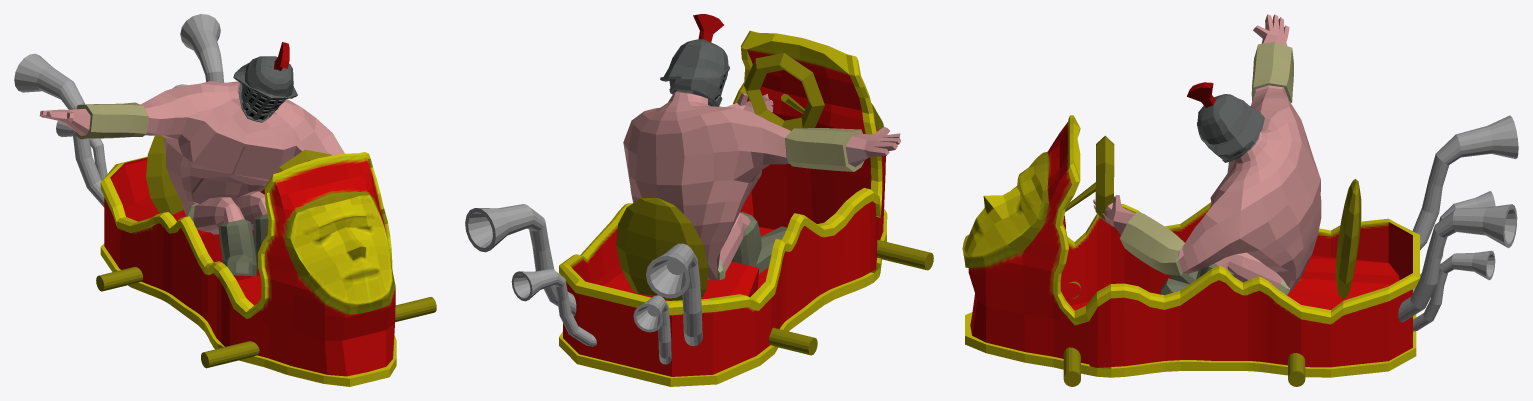
The model's file is gladiVacile_000540.obj.
The picture shows the model from 3 angles, left to right: view 1: azimuth 30°, elevation 25°; view 2: azimuth 150°, elevation 25°; view 3: azimuth 270°, elevation 25°; orthographic projection. The views are drawn at different scales.
Visible parts, largest first — view 1: GladiChasis_GladiChasisH, Gadiador_Gladiador_H.001, GladiTubos_GladiTubosH, GladiVolante_GladiVolanteH; view 2: GladiChasis_GladiChasisH, Gadiador_Gladiador_H.001, GladiTubos_GladiTubosH, GladiVolante_GladiVolanteH; view 3: GladiChasis_GladiChasisH, Gadiador_Gladiador_H.001, GladiTubos_GladiTubosH, GladiVolante_GladiVolanteH.
Part boxes in pixels (left/top/right/bottom): GladiChasis_GladiChasisH: left=100, top=152, right=396, bottom=386; Gadiador_Gladiador_H.001: left=39, top=42, right=344, bottom=276; GladiTubos_GladiTubosH: left=14, top=14, right=223, bottom=207; GladiVolante_GladiVolanteH: left=96, top=135, right=436, bottom=368; GladiChasis_GladiChasisH: left=559, top=30, right=887, bottom=386; Gadiador_Gladiador_H.001: left=623, top=14, right=900, bottom=280; GladiTubos_GladiTubosH: left=465, top=204, right=702, bottom=364; GladiVolante_GladiVolanteH: left=616, top=53, right=933, bottom=355; GladiChasis_GladiChasisH: left=962, top=115, right=1419, bottom=377; Gadiador_Gladiador_H.001: left=1093, top=14, right=1321, bottom=295; GladiTubos_GladiTubosH: left=1398, top=115, right=1518, bottom=331; GladiVolante_GladiVolanteH: left=1063, top=135, right=1361, bottom=386.
Bounding box in the file's own units: 7.1 × 5.69 × 10.78.
